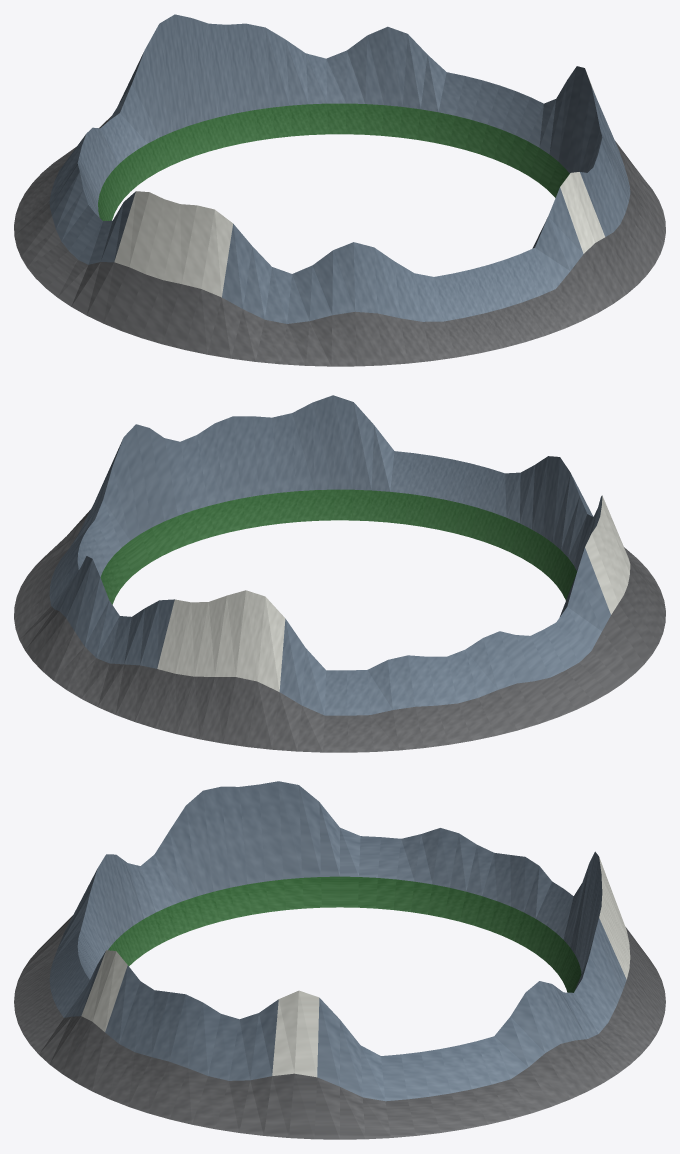
The model's file is bergen_achtergrond.glb.
3 views of the same model, one above another, from view 1: azimuth 30°, elevation 25°; view 2: azimuth 150°, elevation 25°; view 3: azimuth 270°, elevation 25° (orthographic).
Visible parts, largest first — view 1: world; view 2: world; view 3: world.
Part boxes in pixels (x1=…): world: x1=14, y1=14, x2=665, y2=366; world: x1=14, y1=395, x2=665, y2=752; world: x1=14, y1=781, x2=665, y2=1139.
Size of the model in its own units: 256 by 56.56 by 256.
Materials: 1 (1 with a texture image).
